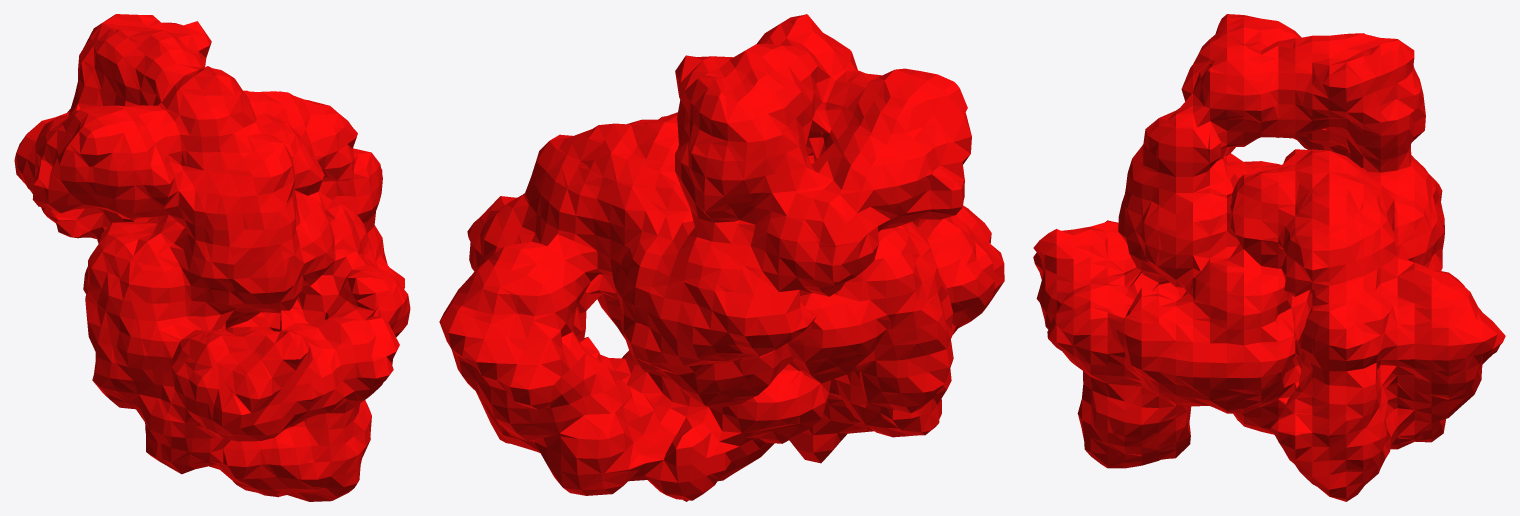
The model's file is arnA_coarse.dae.
3 views of the same model, side by side, from view 1: azimuth 30°, elevation 25°; view 2: azimuth 150°, elevation 25°; view 3: azimuth 270°, elevation 25° (orthographic). The views are drawn at different scales.
Parts seen in each view (by area): view 1: arnA; view 2: arnA; view 3: arnA.
Boxes of the visible parts, x1=… form: arnA: x1=14, y1=14, x2=410, y2=501; arnA: x1=439, y1=14, x2=1004, y2=501; arnA: x1=1033, y1=14, x2=1505, y2=501.
Size of the model in its own units: 144 by 147 by 155.
